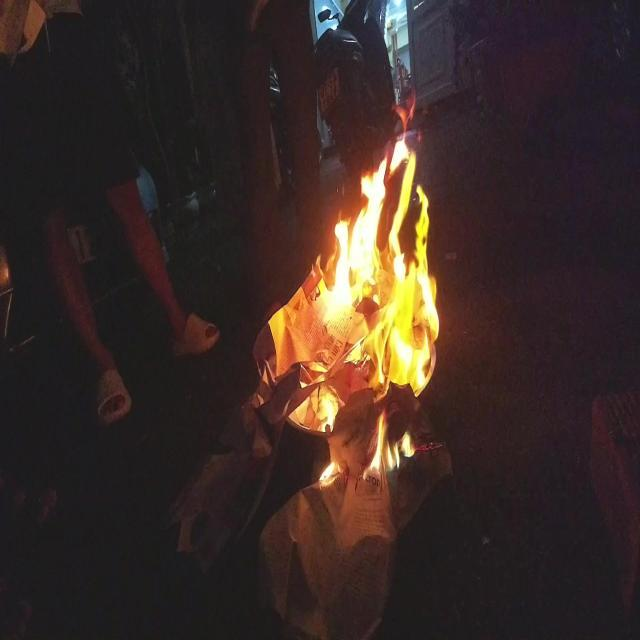Fire: (256, 86, 441, 486)
